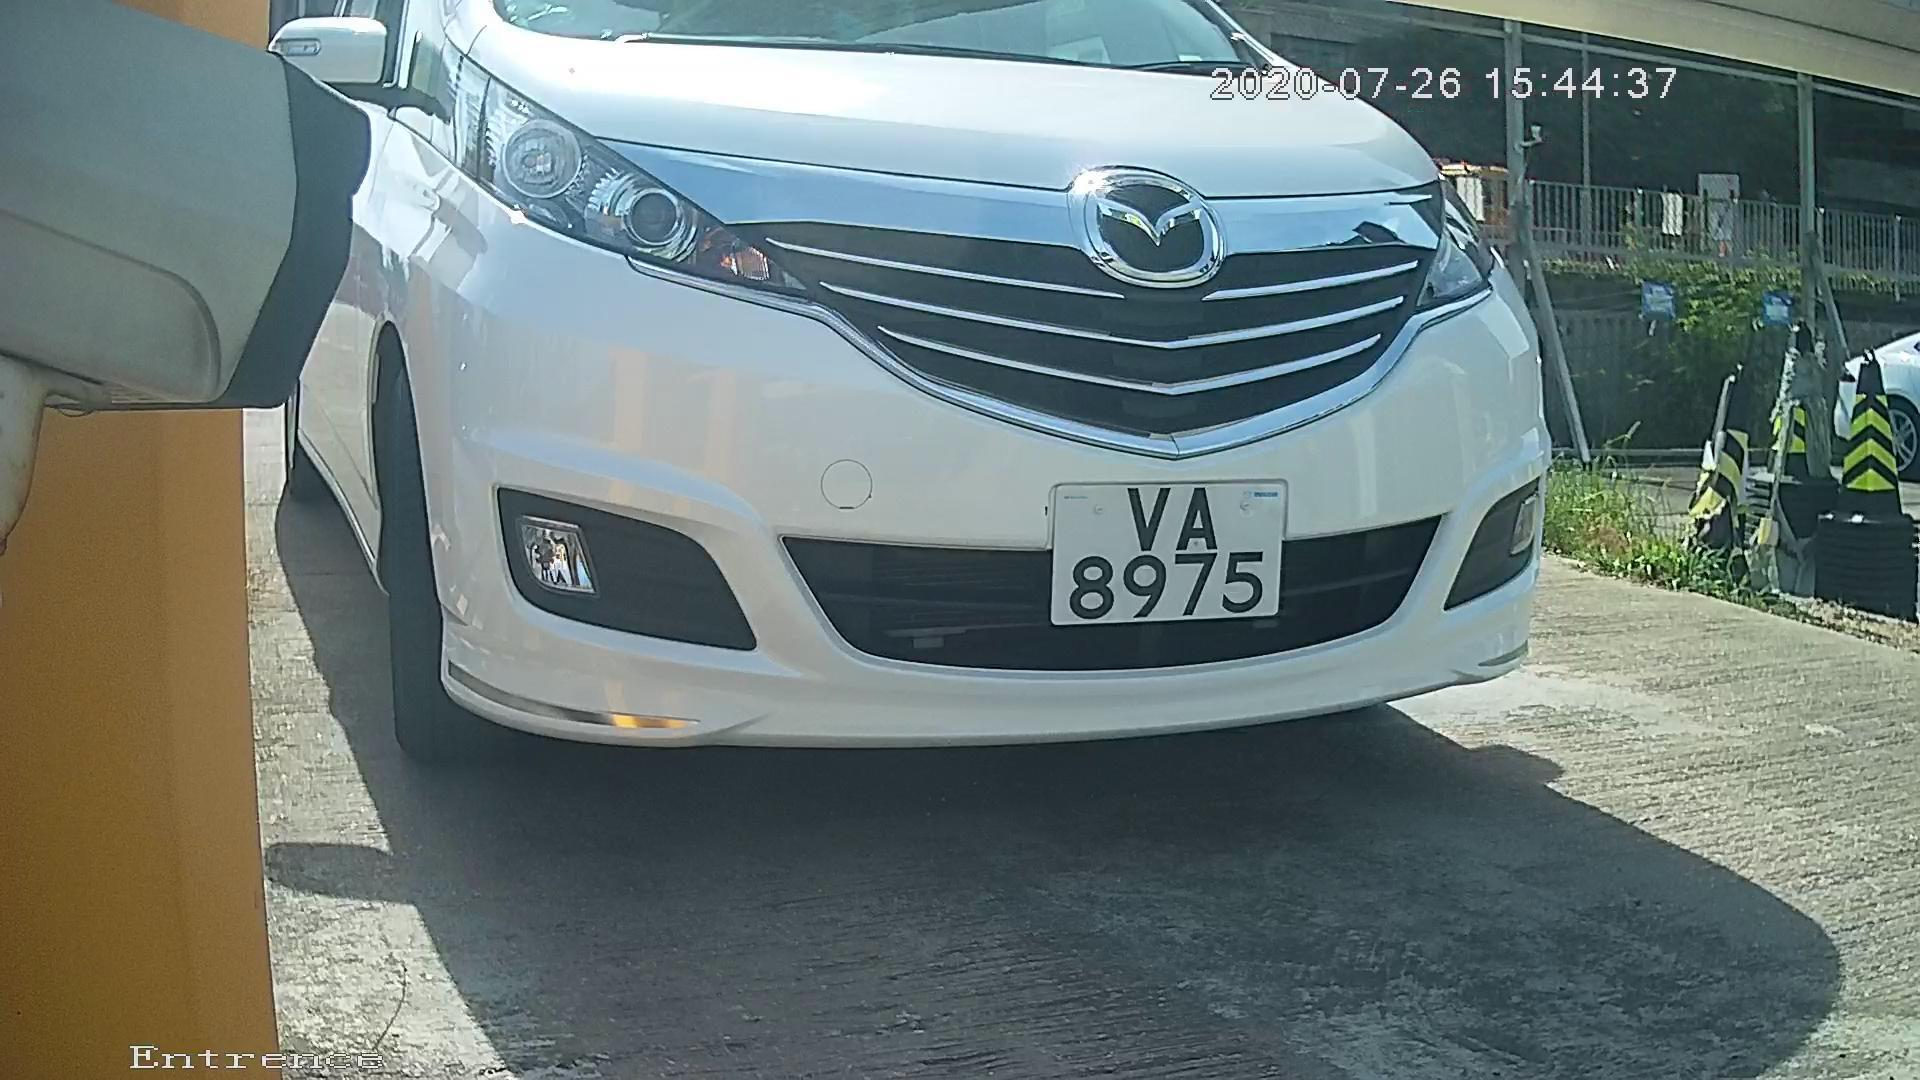privatecar: (266, 25, 1596, 849)
